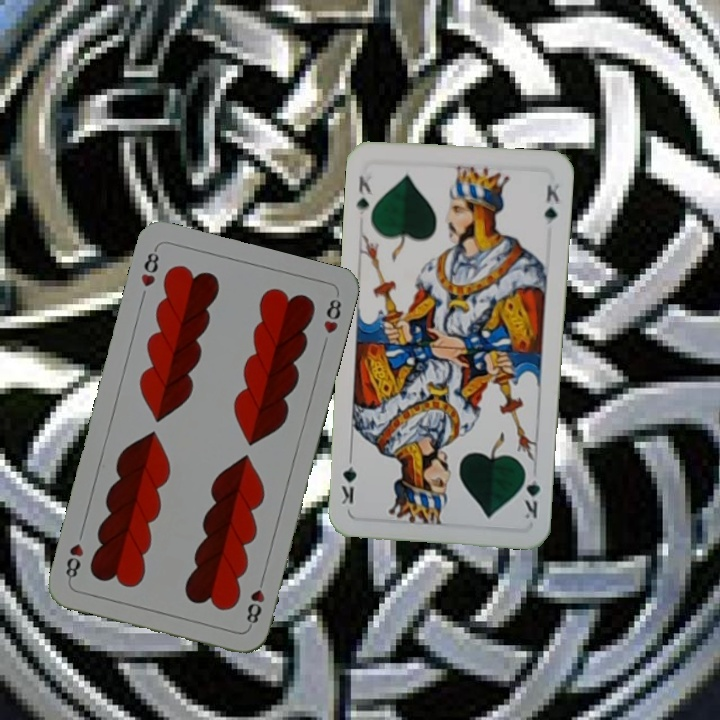GK: (520, 464, 543, 521), (352, 172, 375, 217)
H8: (242, 572, 267, 630), (137, 244, 162, 290)
